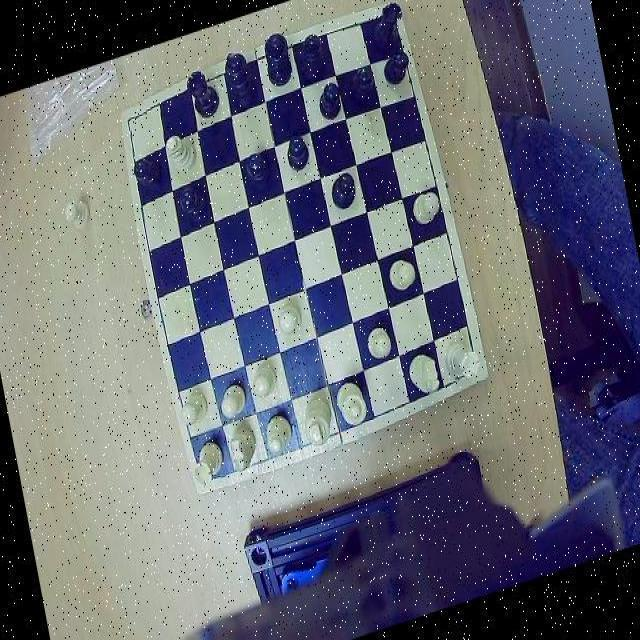chess-table-corners: (452, 349, 488, 387), (194, 459, 228, 494), (370, 3, 402, 40), (120, 99, 148, 133)
